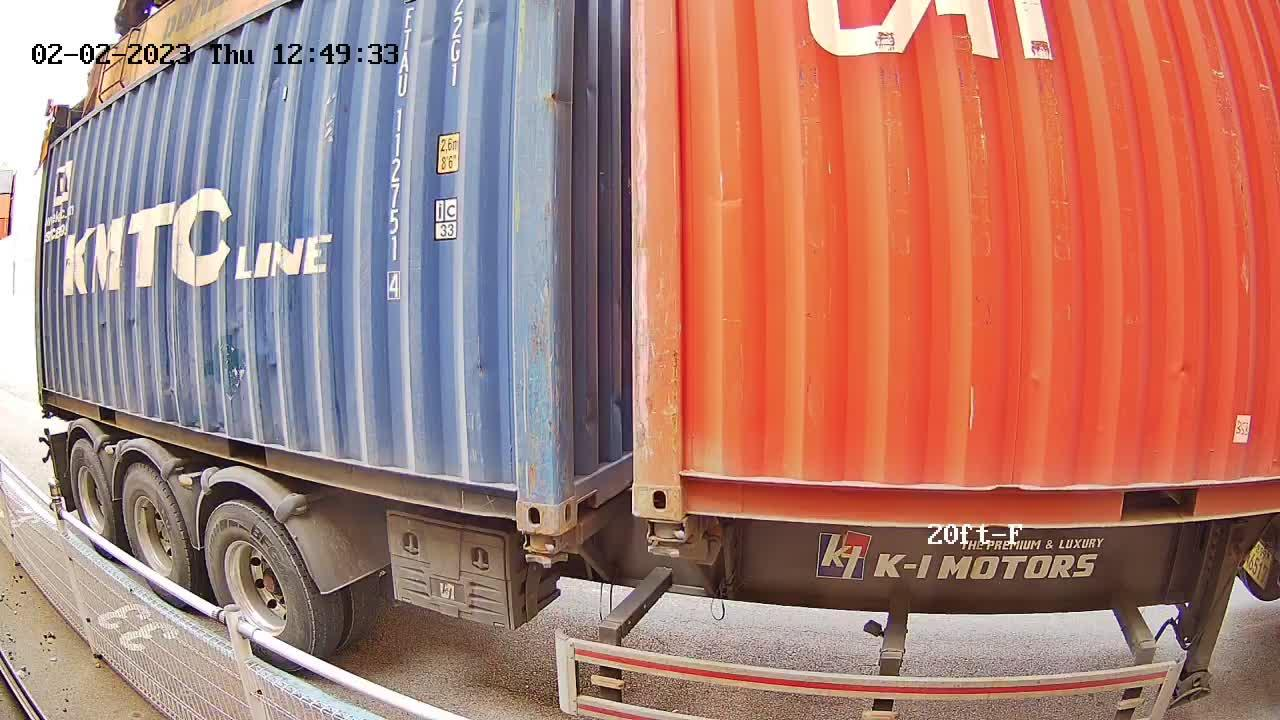Cone: (633, 516, 694, 561), (518, 528, 564, 571)
Hole_L: (631, 438, 731, 520), (554, 439, 607, 533)
Hole_R: (476, 453, 556, 534)
Tire: (204, 503, 314, 670), (123, 463, 191, 609), (70, 440, 113, 552)
